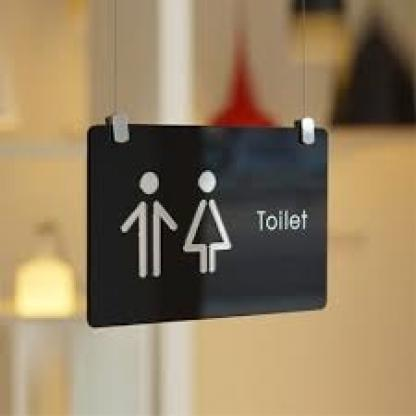toilet: (117, 160, 240, 282)
